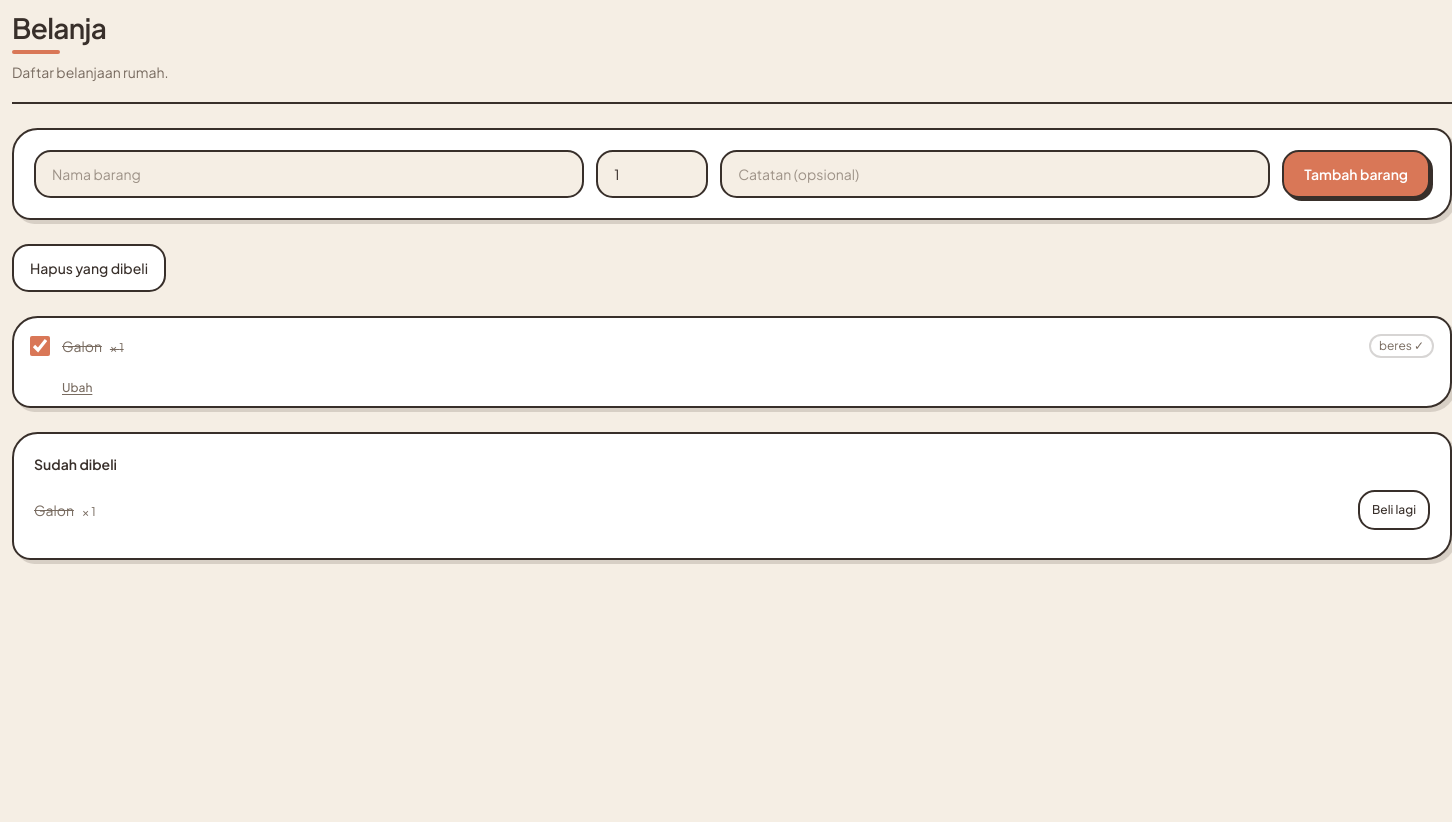
Test case: hapus yang dibeli mengosongkan list
Click the button "Hapus yang dibeli".
click(89, 268)  # box [12,244,166,292]
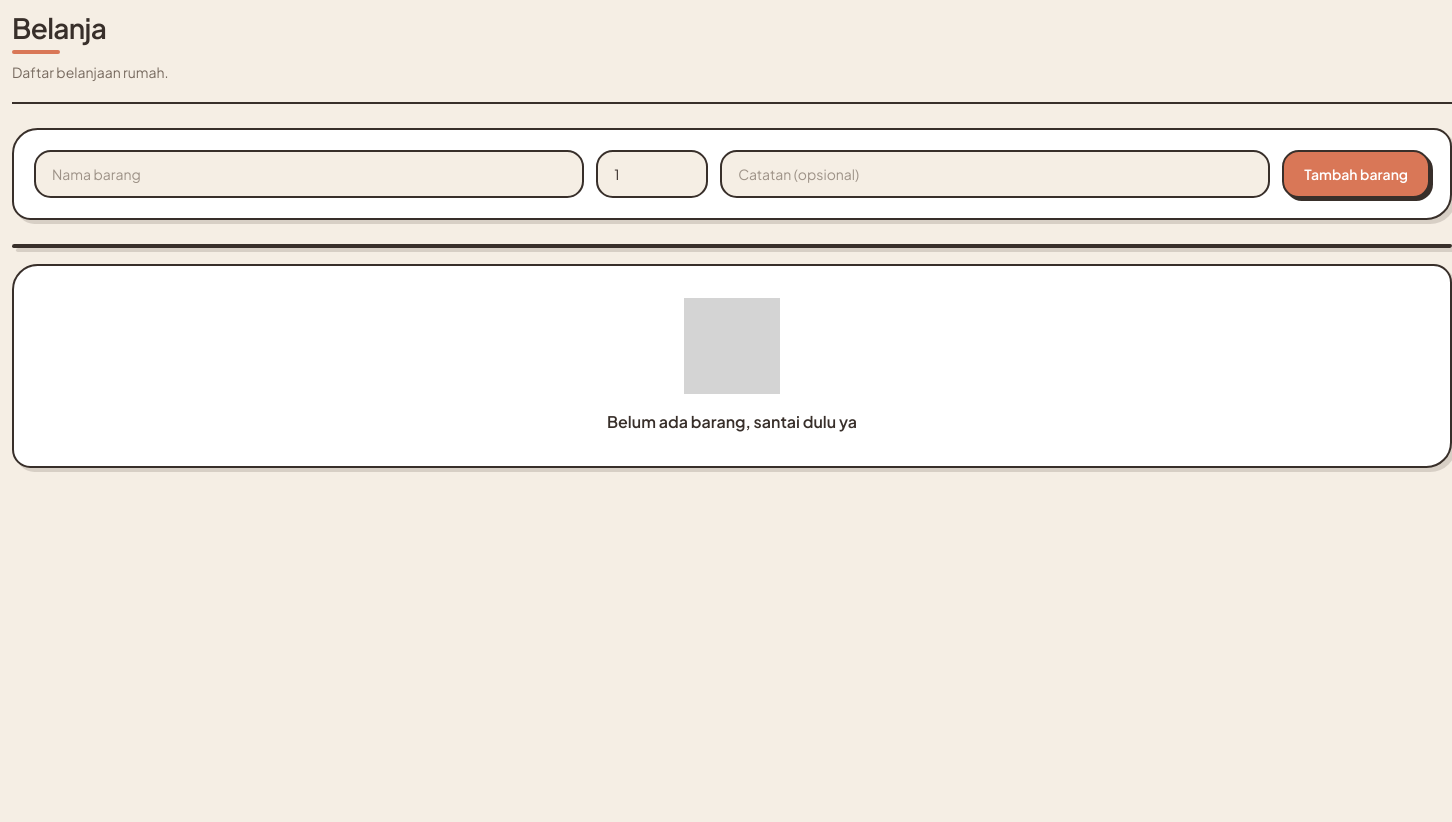
Now the text "Galon" is gone
Now the text "Belum ada barang, santai dulu ya" is shown, box [607,411,857,432]
